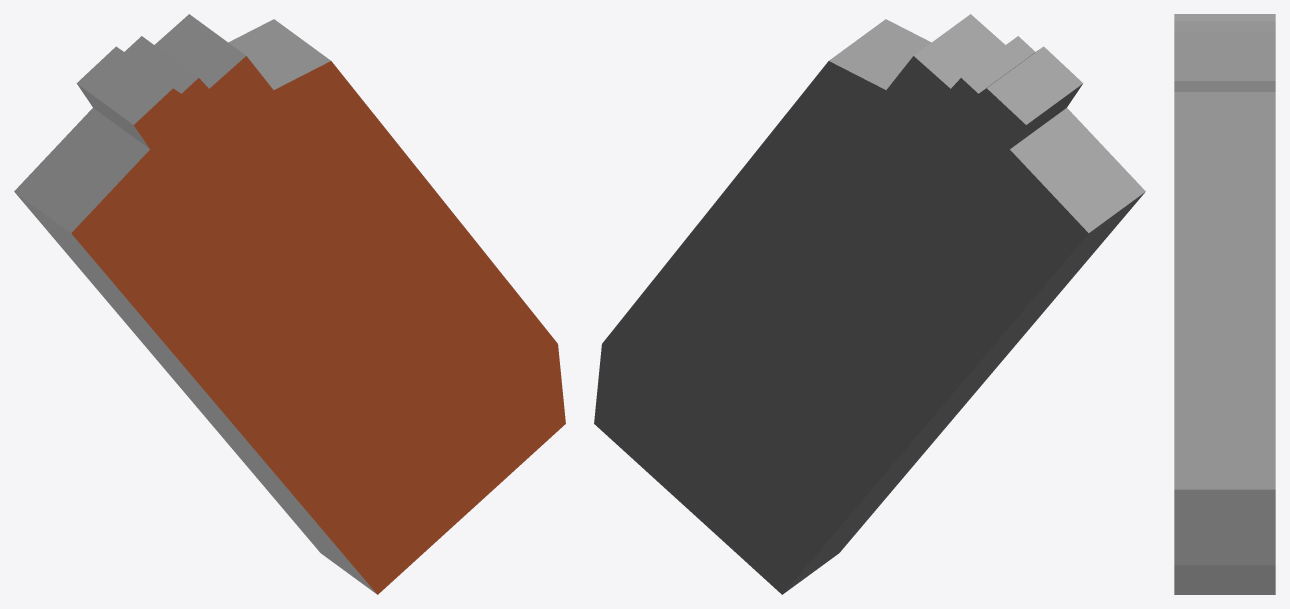
Rendered from construction_7086_assumed_A_Casa_h6m.obj.
3 renders of one model, left to right at view 1: azimuth 30°, elevation 25°; view 2: azimuth 150°, elevation 25°; view 3: azimuth 270°, elevation 25°, orthographic. The views are drawn at different scales.
Visible parts, largest first — view 1: construction_7086_assumed_A_Casa; view 2: construction_7086_assumed_A_Casa; view 3: construction_7086_assumed_A_Casa.
Boxes of the visible parts, x1,y1,x2,y2 form: construction_7086_assumed_A_Casa: (14, 14, 565, 594); construction_7086_assumed_A_Casa: (594, 14, 1145, 594); construction_7086_assumed_A_Casa: (1174, 14, 1275, 594).
Bounding box in the file's own units: 29.99 × 33.08 × 6.
